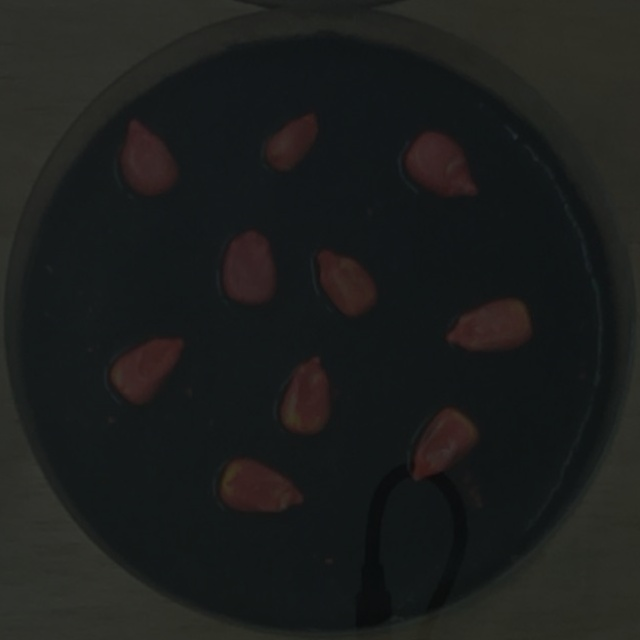Zea mays: (401, 397, 488, 489), (101, 327, 192, 414), (396, 123, 485, 208), (208, 449, 311, 521), (438, 291, 540, 360), (115, 110, 186, 203), (271, 349, 340, 444), (307, 243, 384, 326), (216, 224, 281, 314), (258, 105, 327, 178)
